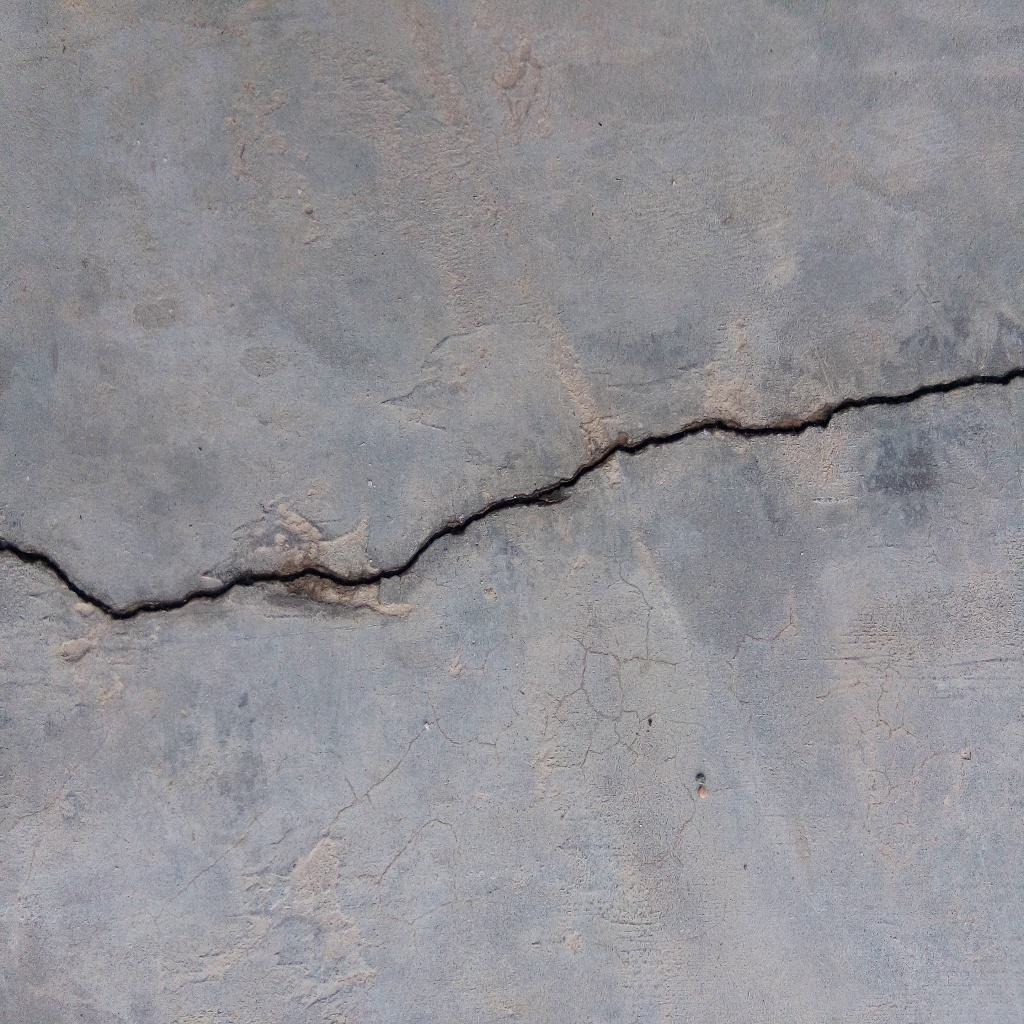Crack: (1, 366, 1024, 621)
